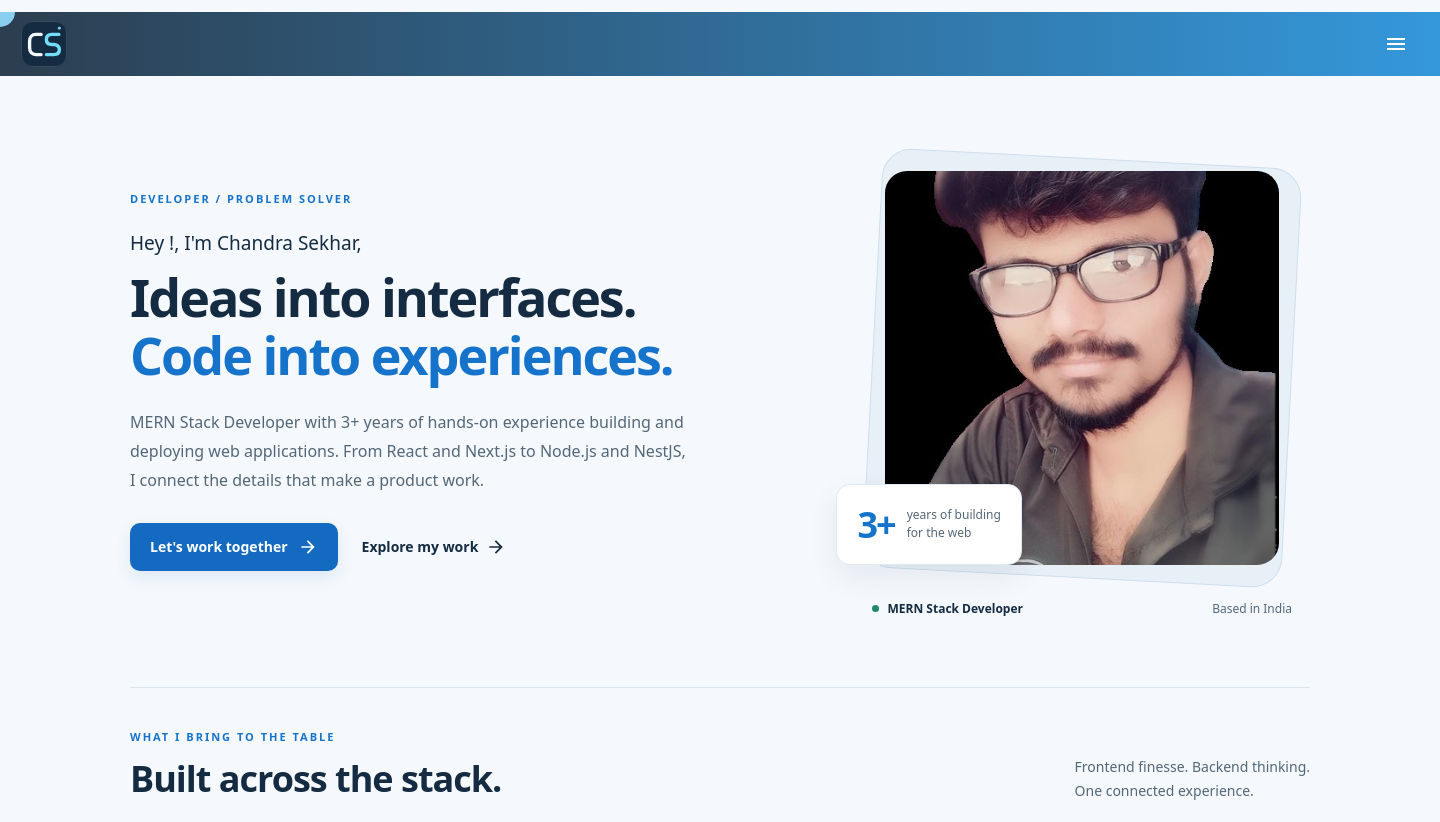
Test case: mobile navigation is labelled and closes when selecting the current page
Expected: the button named "Go to home" is shown, [12,12,76,76]
Click the button named "Open navigation menu" at (1396, 44), box [1376,24,1416,64]
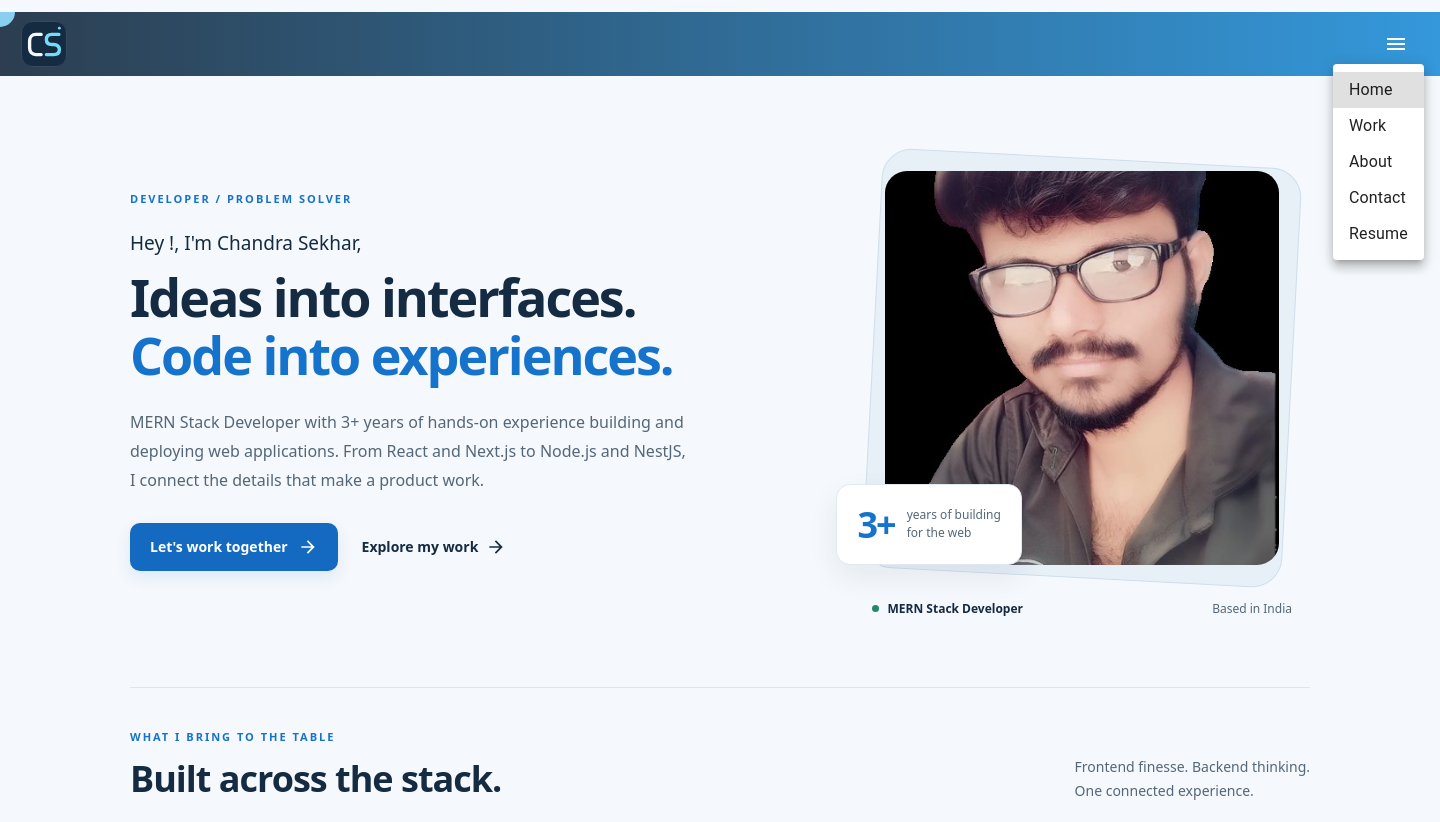
Click the menu item "Home" at (1378, 90), box [1333,72,1424,108]
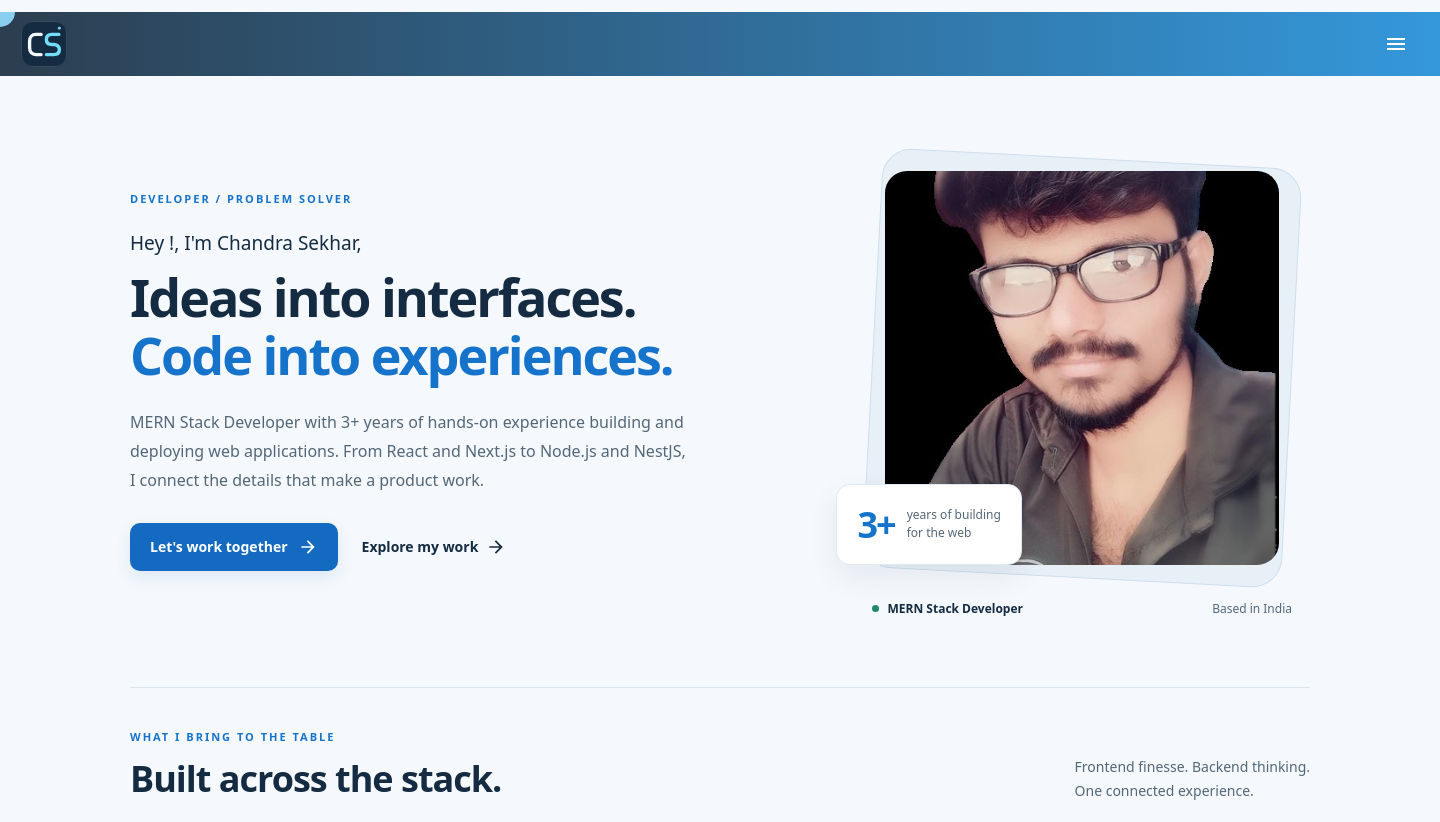
Expected: the menu is gone
